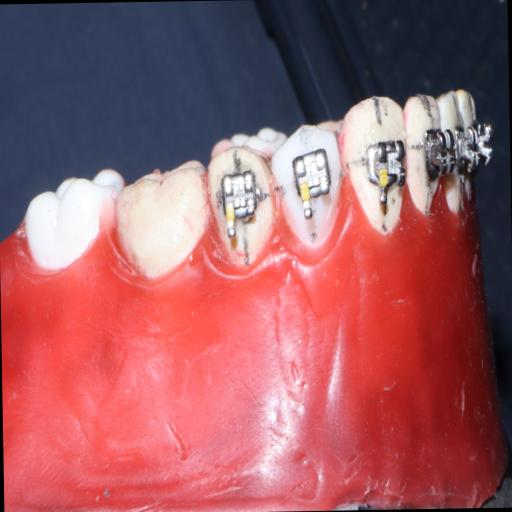correct_brace: (270, 120, 347, 250)
incorrect_brace: (290, 146, 333, 202)
